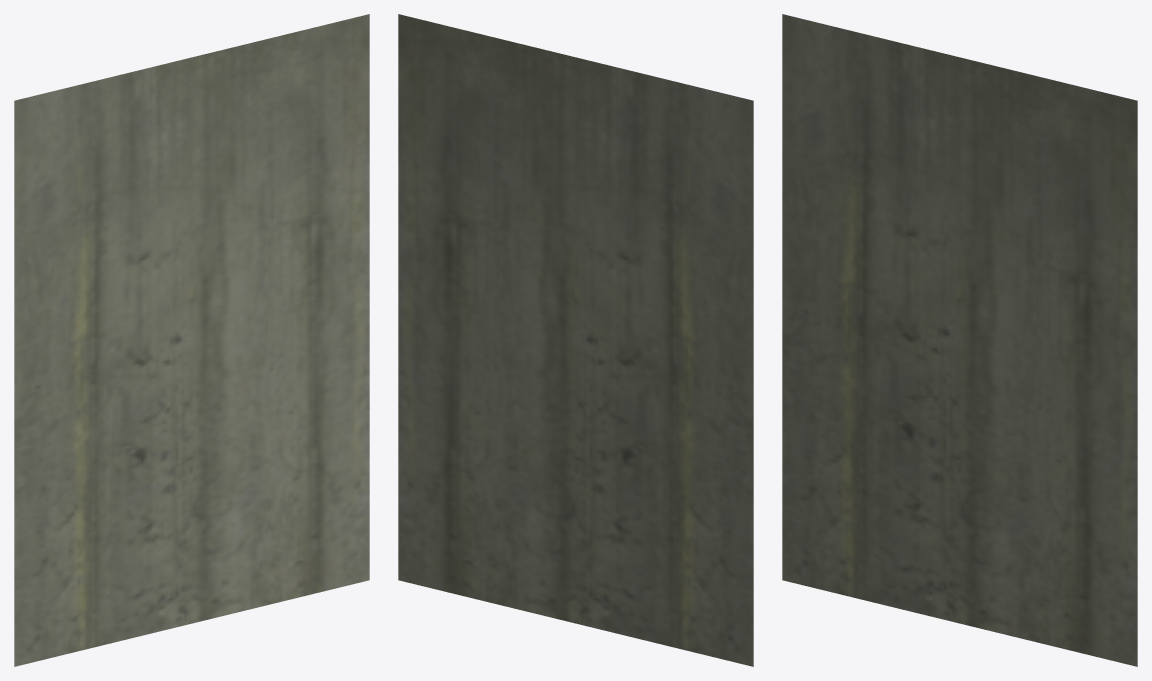
The picture shows the model from 3 angles, left to right: view 1: azimuth 30°, elevation 25°; view 2: azimuth 150°, elevation 25°; view 3: azimuth 330°, elevation 25°; orthographic projection.
Parts seen in each view (by area): view 1: SM_HK_02_00.002; view 2: SM_HK_02_00.002; view 3: SM_HK_02_00.002.
Boxes of the visible parts, x1,y1,x2,y2 form: SM_HK_02_00.002: (14, 14, 369, 666); SM_HK_02_00.002: (398, 14, 753, 666); SM_HK_02_00.002: (782, 14, 1137, 666).
Size of the model in its own units: 200 by 304 by 0.
